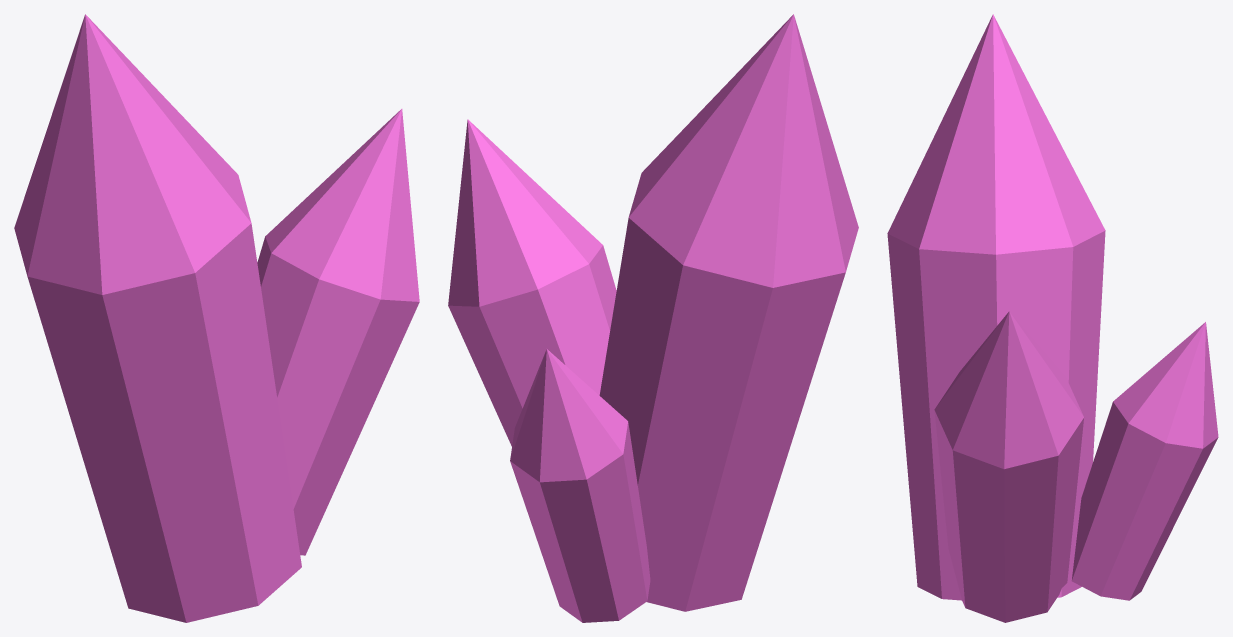
Rendered from Crystal.fbx.
3 renders of one model, left to right at view 1: azimuth 30°, elevation 25°; view 2: azimuth 150°, elevation 25°; view 3: azimuth 270°, elevation 25°, orthographic. The views are drawn at different scales.
Visible parts, largest first — view 1: Cylinder.002; view 2: Cylinder.002; view 3: Cylinder.002.
Part boxes in pixels (<box>): Cylinder.002: <box>14,14,419,622</box>; Cylinder.002: <box>448,14,858,622</box>; Cylinder.002: <box>887,14,1218,622</box>.
Size of the model in its own units: 244 by 365 by 205.
